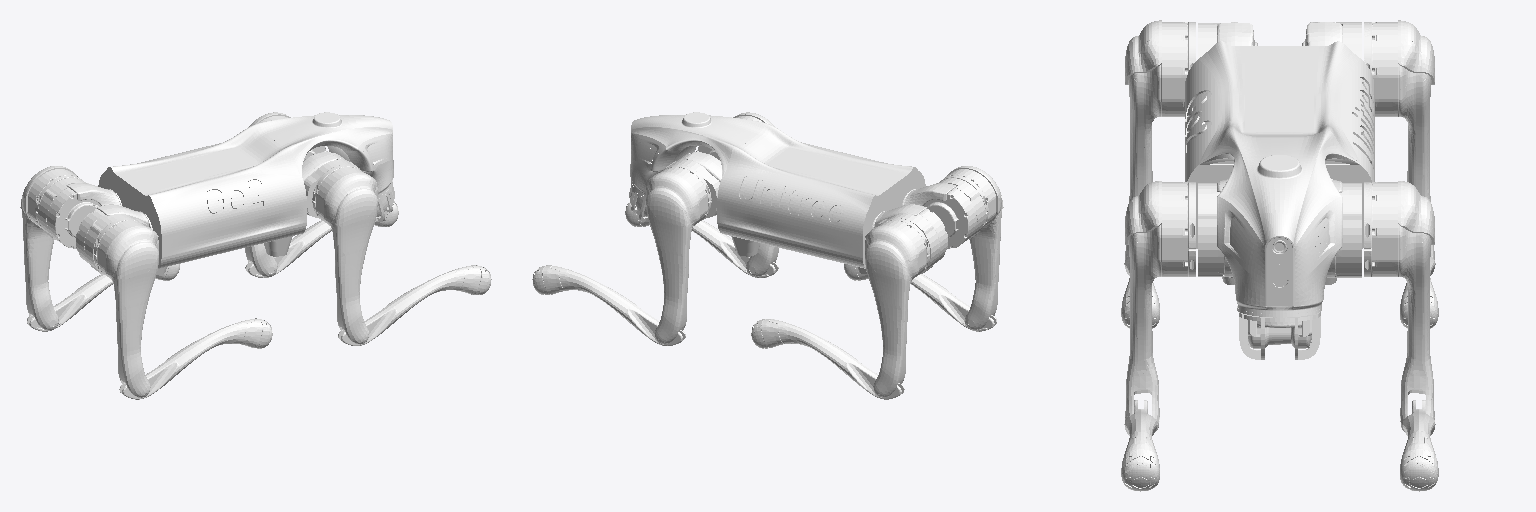
--- Facts derived from the render (not from the file) ---
3 views of the same robot in one strip: view 1: azimuth 30°, elevation 25°; view 2: azimuth 150°, elevation 25°; view 3: azimuth 270°, elevation 25° (orthographic).
Model go2_description with 42 links and 41 joints (12 revolute, 29 fixed), rooted at base, posed joints at zero except 4 at the middle of their limits (FL_calf_joint = -1.78, FR_calf_joint = -1.78, RL_calf_joint = -1.78, RR_calf_joint = -1.78).
Visible links, largest first — view 1: base, FR_thigh, RR_thigh, RL_thigh, RL_hip, RR_calf, FR_calf, RR_hip, RL_calf, FL_calf, FR_hip, FL_thigh; view 2: base, FL_thigh, RL_thigh, RR_thigh, RR_hip, RL_calf, FL_calf, RL_hip, RR_calf, FR_calf, FL_hip, FR_thigh; view 3: base, FR_thigh, FL_thigh, RL_thigh, RR_thigh, FL_hip, FR_hip, FR_calf, FL_calf, RL_hip, RR_hip, FL_foot (+1 smaller).
Link boxes in pixels (x1=…): base: x1=98, y1=112, x2=394, y2=273; FR_thigh: x1=312, y1=165, x2=377, y2=344; RR_thigh: x1=94, y1=218, x2=158, y2=397; RL_thigh: x1=20, y1=166, x2=82, y2=330; RL_hip: x1=38, y1=178, x2=121, y2=248; RR_calf: x1=119, y1=319, x2=272, y2=399; FR_calf: x1=338, y1=265, x2=491, y2=345; RR_hip: x1=76, y1=204, x2=152, y2=274; RL_calf: x1=27, y1=266, x2=168, y2=331; FL_calf: x1=245, y1=201, x2=398, y2=277; FR_hip: x1=302, y1=151, x2=359, y2=220; FL_thigh: x1=245, y1=112, x2=290, y2=277; base: x1=629, y1=112, x2=925, y2=273; FL_thigh: x1=646, y1=165, x2=711, y2=344; RL_thigh: x1=865, y1=218, x2=929, y2=397; RR_thigh: x1=940, y1=166, x2=1003, y2=330; RR_hip: x1=902, y1=178, x2=985, y2=248; RL_calf: x1=751, y1=319, x2=904, y2=399; FL_calf: x1=532, y1=265, x2=685, y2=345; RL_hip: x1=871, y1=204, x2=947, y2=274; RR_calf: x1=855, y1=266, x2=996, y2=331; FR_calf: x1=636, y1=213, x2=778, y2=277; FL_hip: x1=664, y1=152, x2=721, y2=219; FR_thigh: x1=733, y1=112, x2=778, y2=277; base: x1=1185, y1=41, x2=1374, y2=359; FR_thigh: x1=1125, y1=181, x2=1195, y2=431; FL_thigh: x1=1364, y1=181, x2=1434, y2=431; RL_thigh: x1=1364, y1=20, x2=1434, y2=259; RR_thigh: x1=1125, y1=20, x2=1195, y2=259; FL_hip: x1=1327, y1=179, x2=1361, y2=277; FR_hip: x1=1198, y1=179, x2=1232, y2=277; FR_calf: x1=1121, y1=400, x2=1157, y2=488; FL_calf: x1=1402, y1=400, x2=1438, y2=488; RL_hip: x1=1302, y1=22, x2=1361, y2=58; RR_hip: x1=1198, y1=22, x2=1257, y2=58; FL_foot: x1=1400, y1=450, x2=1437, y2=491.
Size in the robot's own frame: 0.6662 by 0.324 by 0.3208 metres.
17 mesh visuals loaded from 7 distinct referenced files (7 binary STL).

URDF robot description (go2_description):
<?xml version="1.0" encoding="utf-8"?>
<!-- This URDF was automatically created by SolidWorks to URDF Exporter! Originally created by
Stephen Brawner ([email redacted]) 
     Commit Version: 1.6.0-4-g7f85cfe  Build Version: 1.6.7995.38578
     For more information, please see http://wiki.ros.org/sw_urdf_exporter -->
<robot
  name="go2_description">
  <link
    name="base">
    <inertial>
      <origin
        xyz="0.021112 0 -0.005366"
        rpy="0 0 0" />
      <mass
        value="6.921" />
      <inertia
        ixx="0.02448"
        ixy="0.00012166"
        ixz="0.0014849"
        iyy="0.098077"
        iyz="-3.12E-05"
        izz="0.107" />
    </inertial>
    <visual>
      <origin
        xyz="0 0 0"
        rpy="0 0 0" />
      <geometry>
        <mesh
          filename="package://go2/meshes/visual/base.STL" />
      </geometry>
      <material
        name="">
        <color
          rgba="1 1 1 1" />
      </material>
    </visual>
    <collision>
      <origin rpy="0 0 0" xyz="0 0 0" />
      <geometry>
        <box size="0.3762 0.0935 0.114" />
      </geometry>
    </collision>
  </link>
  <link
    name="Head_upper">
    <inertial>
      <origin
        xyz="0 0 0"
        rpy="0 0 0" />
      <mass
        value="0.001" />
      <inertia
        ixx="9.6e-06"
        ixy="0"
        ixz="0"
        iyy="9.6e-06"
        iyz="0"
        izz="9.6e-06" />
    </inertial>
    <collision>
      <origin
        xyz="0 0 0"
        rpy="0 0 0" />
      <geometry>
        <cylinder radius="0.05" length="0.09" />
      </geometry>
    </collision>
  </link>
  <joint
    name="Head_upper_joint"
    type="fixed" dont_collapse="true">
    <origin
      xyz="0.285 0 0.01"
      rpy="0 0 0" />
    <parent
      link="base" />
    <child
      link="Head_upper" />
    <axis
      xyz="0 0 0" />
  </joint>
  <link
    name="Head_lower">
    <inertial>
      <origin
        xyz="0 0 0"
        rpy="0 0 0" />
      <mass
        value="0.001" />
      <inertia
        ixx="9.6e-06"
        ixy="0"
        ixz="0"
        iyy="9.6e-06"
        iyz="0"
        izz="9.6e-06" />
    </inertial>
    <collision>
      <origin
        xyz="0 0 0"
        rpy="0 0 0" />
      <geometry>
        <sphere radius="0.047" />
      </geometry>
    </collision>
  </link>
  <joint
    name="Head_lower_joint"
    type="fixed" dont_collapse="true">
    <origin
      xyz="0.008 0 -0.07"
      rpy="0 0 0" />
    <parent
      link="Head_upper" />
    <child
      link="Head_lower" />
    <axis
      xyz="0 0 0" />
  </joint>
  <link
    name="FL_hip">
    <inertial>
      <origin
        xyz="-0.0054 0.00194 -0.000105"
        rpy="0 0 0" />
      <mass
        value="0.678" />
      <inertia
        ixx="0.00048"
        ixy="-3.01E-06"
        ixz="1.11E-06"
        iyy="0.000884"
        iyz="-1.42E-06"
        izz="0.000596" />
    </inertial>
    <visual>
      <origin
        xyz="0 0 0"
        rpy="0 0 0" />
      <geometry>
        <mesh
          filename="package://go2/meshes/visual/hip.STL" />
      </geometry>
      <material
        name="">
        <color
          rgba="1 1 1 1" />
      </material>
    </visual>
    <collision>
      <origin rpy="1.5707963267948966 0 0" xyz="0 0.08 0" />
      <geometry>
        <cylinder length="0.04" radius="0.046" />
      </geometry>
    </collision>
  </link>
  <joint
    name="FL_hip_joint"
    type="revolute">
    <origin
      xyz="0.1934 0.0465 0"
      rpy="0 0 0" />
    <parent
      link="base" />
    <child
      link="FL_hip" />
    <axis
      xyz="1 0 0" />
    <limit
      lower="-1.0472"
      upper="1.0472"
      effort="23.7"
      velocity="30.1" />
  </joint>
  <link name="FL_hip_rotor">
    <inertial>
      <origin rpy="0 0 0" xyz="0.0 0.0 0.0"/>
      <mass value="0.089"/>
      <inertia ixx="0.000111842" ixy="0.0" ixz="0.0" iyy="0.000059647" iyz="0.0" izz="0.000059647"/>
    </inertial>
  </link>
  <joint name="FL_hip_rotor_joint" type="fixed">
    <origin rpy="0 0 0" xyz="0.11215 0.04675 0"/>
    <parent link="base"/>
    <child link="FL_hip_rotor"/>
  </joint>
  <link
    name="FL_thigh">
    <inertial>
      <origin
        xyz="-0.00374 -0.0223 -0.0327"
        rpy="0 0 0" />
      <mass
        value="1.152" />
      <inertia
        ixx="0.00584"
        ixy="8.72E-05"
        ixz="-0.000289"
        iyy="0.0058"
        iyz="0.000808"
        izz="0.00103" />
    </inertial>
    <visual>
      <origin
        xyz="0 0 0"
        rpy="0 0 0" />
      <geometry>
        <mesh
          filename="package://go2/meshes/visual/thigh.STL" />
      </geometry>
      <material
        name="">
        <color
          rgba="1 1 1 1" />
      </material>
    </visual>
    <collision>
      <origin rpy="0 1.5707963267948966 0" xyz="0 0 -0.1065" />
      <geometry>
        <box size="0.213 0.0245 0.034" />
      </geometry>
    </collision>
  </link>
  <joint
    name="FL_thigh_joint"
    type="revolute">
    <origin
      xyz="0 0.0955 0"
      rpy="0 0 0" />
    <parent
      link="FL_hip" />
    <child
      link="FL_thigh" />
    <axis
      xyz="0 1 0" />
    <limit
      lower="-1.5708"
      upper="3.4907"
      effort="23.7"
      velocity="30.1" />
  </joint>
  <link name="FL_thigh_rotor">
    <inertial>
      <origin rpy="0 0 0" xyz="0.0 0.0 0.0"/>
      <mass value="0.089"/>
      <inertia ixx="0.000059647" ixy="0.0" ixz="0.0" iyy="0.000111842" iyz="0.0" izz="0.000059647"/>
    </inertial>
  </link>
  <joint name="FL_thigh_rotor_joint" type="fixed">
    <origin rpy="0 0 0" xyz="0 -0.00015 0"/>
    <parent link="FL_hip"/>
    <child link="FL_thigh_rotor"/>
  </joint>
  <link
    name="FL_calf">
    <inertial>
      <origin
        xyz="0.00548 -0.000975 -0.115"
        rpy="0 0 0" />
      <mass
        value="0.154" />
      <inertia
        ixx="0.00108"
        ixy="3.4E-07"
        ixz="1.72E-05"
        iyy="0.0011"
        iyz="8.28E-06"
        izz="3.29E-05" />
    </inertial>
    <visual>
      <origin
        xyz="0 0 0"
        rpy="0 0 0" />
      <geometry>
        <mesh
          filename="package://go2/meshes/visual/calf.STL" />
      </geometry>
      <material
        name="">
        <color
          rgba="1 1 1 1" />
      </material>
    </visual>
    <collision>
      <origin rpy="0 -0.21 0" xyz="0.008 0 -0.06" />
      <geometry>
        <cylinder length="0.12" radius="0.012" />
      </geometry>
    </collision>
  </link>
  <joint
    name="FL_calf_joint"
    type="revolute">
    <origin
      xyz="0 0 -0.213"
      rpy="0 0 0" />
    <parent
      link="FL_thigh" />
    <child
      link="FL_calf" />
    <axis
      xyz="0 1 0" />
    <limit
      lower="-2.7227"
      upper="-0.83776"
      effort="45.43"
      velocity="15.70" />
  </joint>
  <link
    name="FL_calflower">
    <collision>
      <origin rpy="0 0 0" xyz="0 0 0" />
      <geometry>
        <cylinder length="0.065" radius="0.011" />
      </geometry>
    </collision>
  </link>
  <joint
    name="FL_calflower_joint"
    type="fixed">
    <origin
      xyz="0.020 0 -0.148"
      rpy="0 0.05 0" />
    <parent
      link="FL_calf" />
    <child
      link="FL_calflower" />
    <axis
      xyz="0 0 0" />
  </joint>
  <link
    name="FL_calflower1">
    <collision>
      <origin rpy="0 0 0" xyz="0 0 0" />
      <geometry>
        <cylinder length="0.03" radius="0.0155" />
      </geometry>
    </collision>
  </link>
  <joint
    name="FL_calflower1_joint"
    type="fixed">
    <origin
      xyz="-0.01 0 -0.04"
      rpy="0 0.48 0" />
    <parent
      link="FL_calflower" />
    <child
      link="FL_calflower1" />
    <axis
      xyz="0 0 0" />
  </joint>
  <link name="FL_calf_rotor">
    <inertial>
      <origin rpy="0 0 0" xyz="0.0 0.0 0.0"/>
      <mass value="0.089"/>
      <inertia ixx="0.000059647" ixy="0.0" ixz="0.0" iyy="0.000111842" iyz="0.0" izz="0.000059647"/>
    </inertial>
  </link>
  <joint name="FL_calf_rotor_joint" type="fixed">
    <origin rpy="0 0 0" xyz="0 -0.03235 0"/>
    <parent link="FL_thigh"/>
    <child link="FL_calf_rotor"/>
  </joint>
  <link
    name="FL_foot">
    <inertial>
      <origin
        xyz="0 0 0"
        rpy="0 0 0" />
      <mass
        value="0.04" />
      <inertia
        ixx="9.6e-06"
        ixy="0"
        ixz="0"
        iyy="9.6e-06"
        iyz="0"
        izz="9.6e-06" />
    </inertial>
    <visual>
      <origin
        xyz="0 0 0"
        rpy="0 0 0" />
      <geometry>
        <mesh
          filename="package://go2/meshes/visual/foot.STL" />
      </geometry>
      <material
        name="">
        <color
          rgba="1 1 1 1" />
      </material>
    </visual>
    <collision>
      <origin rpy="0 0 0" xyz="-0.002 0 0" />
      <geometry>
        <sphere radius="0.022" />
      </geometry>
    </collision>
  </link>
  <joint
    name="FL_foot_joint"
    type="fixed" dont_collapse="true">
    <origin
      xyz="0 0 -0.213"
      rpy="0 0 0" />
    <parent
      link="FL_calf" />
    <child
      link="FL_foot" />
    <axis
      xyz="0 0 0" />
  </joint>
  <link
    name="FR_hip">
    <inertial>
      <origin
        xyz="-0.0054 -0.00194 -0.000105"
        rpy="0 0 0" />
      <mass
        value="0.678" />
      <inertia
        ixx="0.00048"
        ixy="3.01E-06"
        ixz="1.11E-06"
        iyy="0.000884"
        iyz="1.42E-06"
        izz="0.000596" />
    </inertial>
    <visual>
      <origin
        xyz="0 0 0"
        rpy="3.1415 0 0" />
      <geometry>
        <mesh
          filename="package://go2/meshes/visual/hip.STL" />
      </geometry>
      <material
        name="">
        <color
          rgba="1 1 1 1" />
      </material>
    </visual>
    <collision>
      <origin rpy="1.5707963267948966 0 0" xyz="0 -0.08 0" />
      <geometry>
        <cylinder length="0.04" radius="0.046" />
      </geometry>
    </collision>
  </link>
  <joint
    name="FR_hip_joint"
    type="revolute">
    <origin
      xyz="0.1934 -0.0465 0"
      rpy="0 0 0" />
    <parent
      link="base" />
    <child
      link="FR_hip" />
    <axis
      xyz="1 0 0" />
    <limit
      lower="-1.0472"
      upper="1.0472"
      effort="23.7"
      velocity="30.1" />
  </joint>
  <link name="FR_hip_rotor">
    <inertial>
      <origin rpy="0 0 0" xyz="0.0 0.0 0.0"/>
      <mass value="0.089"/>
      <inertia ixx="0.000111842" ixy="0.0" ixz="0.0" iyy="0.000059647" iyz="0.0" izz="0.000059647"/>
    </inertial>
  </link>
  <joint name="FR_hip_rotor_joint" type="fixed">
    <origin rpy="0 0 0" xyz="0.11215 -0.04675 0"/>
    <parent link="base"/>
    <child link="FR_hip_rotor"/>
  </joint>
  <link
    name="FR_thigh">
    <inertial>
      <origin
        xyz="-0.00374 0.0223 -0.0327"
        rpy="0 0 0" />
      <mass
        value="1.152" />
      <inertia
        ixx="0.00584"
        ixy="-8.72E-05"
        ixz="-0.000289"
        iyy="0.0058"
        iyz="-0.000808"
        izz="0.00103" />
    </inertial>
    <visual>
      <origin
        xyz="0 0 0"
        rpy="0 0 0" />
      <geometry>
        <mesh
          filename="package://go2/meshes/visual/thigh_mirror.STL" />
      </geometry>
      <material
        name="">
        <color
          rgba="1 1 1 1" />
      </material>
    </visual>
    <collision>
      <origin rpy="0 1.5707963267948966 0" xyz="0 0 -0.1065" />
      <geometry>
        <box size="0.213 0.0245 0.034" />
      </geometry>
    </collision>
  </link>
  <joint
    name="FR_thigh_joint"
    type="revolute">
    <origin
      xyz="0 -0.0955 0"
      rpy="0 0 0" />
    <parent
      link="FR_hip" />
    <child
      link="FR_thigh" />
    <axis
      xyz="0 1 0" />
    <limit
      lower="-1.5708"
      upper="3.4907"
      effort="23.7"
      velocity="30.1" />
  </joint>
  <link name="FR_thigh_rotor">
    <inertial>
      <origin rpy="0 0 0" xyz="0.0 0.0 0.0"/>
      <mass value="0.089"/>
      <inertia ixx="0.000059647" ixy="0.0" ixz="0.0" iyy="0.000111842" iyz="0.0" izz="0.000059647"/>
    </inertial>
  </link>
  <joint name="FR_thigh_rotor_joint" type="fixed">
    <origin rpy="0 0 0" xyz="0 0.00015 0"/>
    <parent link="FR_hip"/>
    <child link="FR_thigh_rotor"/>
  </joint>
  <link
    name="FR_calf">
    <inertial>
      <origin
        xyz="0.00548 0.000975 -0.115"
        rpy="0 0 0" />
      <mass
        value="0.154" />
      <inertia
        ixx="0.00108"
        ixy="-3.4E-07"
        ixz="1.72E-05"
        iyy="0.0011"
        iyz="-8.28E-06"
        izz="3.29E-05" />
    </inertial>
    <visual>
      <origin
        xyz="0 0 0"
        rpy="0 0 0" />
      <geometry>
        <mesh
          filename="package://go2/meshes/visual/calf_mirror.STL" />
      </geometry>
      <material
        name="">
        <color
          rgba="1 1 1 1" />
      </material>
    </visual>
    <collision>
      <origin rpy="0 -0.2 0" xyz="0.01 0 -0.06" />
      <geometry>
        <cylinder length="0.12" radius="0.013" />
      </geometry>
    </collision>
  </link>
  <joint
    name="FR_calf_joint"
    type="revolute">
    <origin
      xyz="0 0 -0.213"
      rpy="0 0 0" />
    <parent
      link="FR_thigh" />
    <child
      link="FR_calf" />
    <axis
      xyz="0 1 0" />
    <limit
      lower="-2.7227"
      upper="-0.83776"
      effort="45.43"
      velocity="15.70" />
  </joint>
  <link
    name="FR_calflower">
    <collision>
      <origin rpy="0 0 0" xyz="0 0 0" />
      <geometry>
        <cylinder length="0.065" radius="0.011" />
      </geometry>
    </collision>
  </link>
  <joint
    name="FR_calflower_joint"
    type="fixed">
    <origin
      xyz="0.020 0 -0.148"
      rpy="0 0.05 0" />
    <parent
      link="FR_calf" />
    <child
      link="FR_calflower" />
    <axis
      xyz="0 0 0" />
  </joint>
  <link
    name="FR_calflower1">
    <collision>
      <origin rpy="0 0 0" xyz="0 0 0" />
      <geometry>
        <cylinder length="0.03" radius="0.0155" />
      </geometry>
    </collision>
  </link>
  <joint
    name="FR_calflower1_joint"
    type="fixed">
    <origin
      xyz="-0.01 0 -0.04"
      rpy="0 0.48 0" />
    <parent
      link="FR_calflower" />
    <child
      link="FR_calflower1" />
    <axis
      xyz="0 0 0" />
  </joint>
  <link name="FR_calf_rotor">
    <inertial>
      <origin rpy="0 0 0" xyz="0.0 0.0 0.0"/>
      <mass value="0.089"/>
      <inertia ixx="0.000059647" ixy="0.0" ixz="0.0" iyy="0.000111842" iyz="0.0" izz="0.000059647"/>
    </inertial>
  </link>
  <joint name="FR_calf_rotor_joint" type="fixed">
    <origin rpy="0 0 0" xyz="0 0.03235 0"/>
    <parent link="FR_thigh"/>
    <child link="FR_calf_rotor"/>
  </joint>
  <link
    name="FR_foot">
    <inertial>
      <origin
        xyz="0 0 0"
        rpy="0 0 0" />
      <mass
        value="0.04" />
      <inertia
        ixx="9.6e-06"
        ixy="0"
        ixz="0"
        iyy="9.6e-06"
        iyz="0"
        izz="9.6e-06" />
    </inertial>
    <visual>
      <origin
        xyz="0 0 0"
        rpy="0 0 0" />
      <geometry>
        <mesh
          filename="package://go2/meshes/visual/foot.STL" />
      </geometry>
      <material
        name="">
        <color
          rgba="1 1 1 1" />
      </material>
    </visual>
    <collision>
      <origin rpy="0 0 0" xyz="-0.002 0 0" />
      <geometry>
        <sphere radius="0.022" />
      </geometry>
    </collision>
  </link>
  <joint
    name="FR_foot_joint"
    type="fixed" dont_collapse="true">
    <origin
      xyz="0 0 -0.213"
      rpy="0 0 0" />
    <parent
      link="FR_calf" />
    <child
      link="FR_foot" />
    <axis
      xyz="0 0 0" />
  </joint>
  <link
    name="RL_hip">
    <inertial>
      <origin
        xyz="0.0054 0.00194 -0.000105"
        rpy="0 0 0" />
      <mass
        value="0.678" />
      <inertia
        ixx="0.00048"
        ixy="3.01E-06"
        ixz="-1.11E-06"
        iyy="0.000884"
        iyz="-1.42E-06"
        izz="0.000596" />
    </inertial>
    <visual>
      <origin
        xyz="0 0 0"
        rpy="0 3.1415 0" />
      <geometry>
        <mesh
          filename="package://go2/meshes/visual/hip.STL" />
      </geometry>
      <material
        name="">
        <color
          rgba="1 1 1 1" />
      </material>
    </visual>
    <collision>
      <origin rpy="1.5707963267948966 0 0" xyz="0 0.08 0" />
      <geometry>
        <cylinder length="0.04" radius="0.046" />
      </geometry>
    </collision>
  </link>
  <joint
    name="RL_hip_joint"
    type="revolute">
    <origin
      xyz="-0.1934 0.0465 0"
      rpy="0 0 0" />
    <parent
      link="base" />
    <child
      link="RL_hip" />
    <axis
      xyz="1 0 0" />
    <limit
      lower="-1.0472"
      upper="1.0472"
      effort="23.7"
      velocity="30.1" />
  </joint>
  <link name="RL_hip_rotor">
    <inertial>
      <origin rpy="0 0 0" xyz="0.0 0.0 0.0"/>
      <mass value="0.089"/>
      <inertia ixx="0.000111842" ixy="0.0" ixz="0.0" iyy="0.000059647" iyz="0.0" izz="0.000059647"/>
    </inertial>
  </link>
  <joint name="RL_hip_rotor_joint" type="fixed">
    <origin rpy="0 0 0" xyz="-0.11215 0.04675 0"/>
    <parent link="base"/>
    <child link="RL_hip_rotor"/>
  </joint>
  <link
    name="RL_thigh">
    <inertial>
      <origin
        xyz="-0.00374 -0.0223 -0.0327"
        rpy="0 0 0" />
      <mass
        value="1.152" />
      <inertia
        ixx="0.00584"
        ixy="8.72E-05"
        ixz="-0.000289"
        iyy="0.0058"
        iyz="0.000808"
        izz="0.00103" />
    </inertial>
    <visual>
      <origin
        xyz="0 0 0"
        rpy="0 0 0" />
      <geometry>
        <mesh
          filename="package://go2/meshes/visual/thigh.STL" />
      </geometry>
      <material
        name="">
        <color
          rgba="1 1 1 1" />
      </material>
    </visual>
    <collision>
      <origin rpy="0 1.5707963267948966 0" xyz="0 0 -0.1065" />
      <geometry>
        <box size="0.213 0.0245 0.034" />
      </geometry>
    </collision>
  </link>
  <joint
    name="RL_thigh_joint"
    type="revolute">
    <origin
      xyz="0 0.0955 0"
      rpy="0 0 0" />
    <parent
      link="RL_hip" />
    <child
      link="RL_thigh" />
    <axis
      xyz="0 1 0" />
    <limit
      lower="-0.5236"
      upper="4.5379"
      effort="23.7"
      velocity="30.1" />
  </joint>
  <link name="RL_thigh_rotor">
    <inertial>
      <origin rpy="0 0 0" xyz="0.0 0.0 0.0"/>
      <mass value="0.089"/>
      <inertia ixx="0.000059647" ixy="0.0" ixz="0.0" iyy="0.000111842" iyz="0.0" izz="0.000059647"/>
    </inertial>
  </link>
  <joint name="RL_thigh_rotor_joint" type="fixed">
    <origin rpy="0 0 0" xyz="0 -0.00015 0"/>
    <parent link="RL_hip"/>
    <child link="RL_thigh_rotor"/>
  </joint>
  <link
    name="RL_calf">
    <inertial>
      <origin
        xyz="0.00548 -0.000975 -0.115"
        rpy="0 0 0" />
      <mass
        value="0.154" />
      <inertia
        ixx="0.00108"
        ixy="3.4E-07"
        ixz="1.72E-05"
        iyy="0.0011"
        iyz="8.28E-06"
        izz="3.29E-05" />
    </inertial>
    <visual>
      <origin
        xyz="0 0 0"
        rpy="0 0 0" />
      <geometry>
        <mesh
          filename="package://go2/meshes/visual/calf.STL" />
      </geometry>
      <material
        name="">
        <color
          rgba="1 1 1 1" />
      </material>
    </visual>
    <collision>
      <origin rpy="0 -0.2 0" xyz="0.01 0 -0.06" />
      <geometry>
        <cylinder length="0.12" radius="0.013" />
      </geometry>
    </collision>
  </link>
  <joint
    name="RL_calf_joint"
    type="revolute">
    <origin
      xyz="0 0 -0.213"
      rpy="0 0 0" />
    <parent
      link="RL_thigh" />
    <child
      link="RL_calf" />
    <axis
      xyz="0 1 0" />
    <limit
      lower="-2.7227"
      upper="-0.83776"
      effort="45.43"
      velocity="15.70" />
  </joint>
  <link
    name="RL_calflower">
    <collision>
      <origin rpy="0 0 0" xyz="0 0 0" />
      <geometry>
        <cylinder length="0.065" radius="0.011" />
      </geometry>
    </collision>
  </link>
  <joint
    name="RL_calflower_joint"
    type="fixed">
    <origin
      xyz="0.020 0 -0.148"
      rpy="0 0.05 0" />
    <parent
      link="RL_calf" />
    <child
      link="RL_calflower" />
    <axis
      xyz="0 0 0" />
  </joint>
  <link
    name="RL_calflower1">
    <collision>
      <origin rpy="0 0 0" xyz="0 0 0" />
      <geometry>
        <cylinder length="0.03" radius="0.0155" />
      </geometry>
    </collision>
  </link>
  <joint
    name="RL_calflower1_joint"
    type="fixed">
    <origin
      xyz="-0.01 0 -0.04"
      rpy="0 0.48 0" />
    <parent
      link="RL_calflower" />
    <child
      link="RL_calflower1" />
    <axis
      xyz="0 0 0" />
  </joint>
  <link name="RL_calf_rotor">
    <inertial>
      <origin rpy="0 0 0" xyz="0.0 0.0 0.0"/>
      <mass value="0.089"/>
      <inertia ixx="0.000059647" ixy="0.0" ixz="0.0" iyy="0.000111842" iyz="0.0" izz="0.000059647"/>
    </inertial>
  </link>
  <joint name="RL_calf_rotor_joint" type="fixed">
    <origin rpy="0 0 0" xyz="0 -0.03235 0"/>
    <parent link="RL_thigh"/>
    <child link="RL_calf_rotor"/>
  </joint>
  <link
    name="RL_foot">
    <inertial>
      <origin
        xyz="0 0 0"
        rpy="0 0 0" />
      <mass
        value="0.04" />
      <inertia
        ixx="9.6e-06"
        ixy="0"
        ixz="0"
        iyy="9.6e-06"
        iyz="0"
        izz="9.6e-06" />
    </inertial>
    <visual>
      <origin
        xyz="0 0 0"
        rpy="0 0 0" />
      <geometry>
        <mesh
          filename="package://go2/meshes/visual/foot.STL" />
      </geometry>
      <material
        name="">
        <color
          rgba="1 1 1 1" />
      </material>
    </visual>
    <collision>
      <origin rpy="0 0 0" xyz="-0.002 0 0" />
      <geometry>
        <sphere radius="0.022" />
      </geometry>
    </collision>
  </link>
  <joint
    name="RL_foot_joint"
    type="fixed" dont_collapse="true">
    <origin
      xyz="0 0 -0.213"
      rpy="0 0 0" />
    <parent
      link="RL_calf" />
    <child
      link="RL_foot" />
    <axis
      xyz="0 0 0" />
  </joint>
  <link
    name="RR_hip">
    <inertial>
      <origin
        xyz="0.0054 -0.00194 -0.000105"
        rpy="0 0 0" />
      <mass
        value="0.678" />
      <inertia
        ixx="0.00048"
        ixy="-3.01E-06"
        ixz="-1.11E-06"
        iyy="0.000884"
        iyz="1.42E-06"
        izz="0.000596" />
    </inertial>
    <visual>
      <origin
        xyz="0 0 0"
        rpy="3.1415 3.1415 0" />
      <geometry>
        <mesh
          filename="package://go2/meshes/visual/hip.STL" />
      </geometry>
      <material
        name="">
        <color
          rgba="1 1 1 1" />
      </material>
    </visual>
    <collision>
      <origin rpy="1.5707963267948966 0 0" xyz="0 -0.08 0" />
      <geometry>
        <cylinder length="0.04" radius="0.046" />
      </geometry>
    </collision>
  </link>
  <joint
    name="RR_hip_joint"
    type="revolute">
    <origin
      xyz="-0.1934 -0.0465 0"
      rpy="0 0 0" />
    <parent
      link="base" />
    <child
      link="RR_hip" />
    <axis
      xyz="1 0 0" />
    <limit
      lower="-1.0472"
      upper="1.0472"
      effort="23.7"
      velocity="30.1" />
  </joint>
  <link name="RR_hip_rotor">
    <inertial>
      <origin rpy="0 0 0" xyz="0.0 0.0 0.0"/>
      <mass value="0.089"/>
      <inertia ixx="0.000111842" ixy="0.0" ixz="0.0" iyy="0.000059647" iyz="0.0" izz="0.000059647"/>
    </inertial>
  </link>
  <joint name="RR_hip_rotor_joint" type="fixed">
    <origin rpy="0 0 0" xyz="-0.11215 -0.04675 0"/>
    <parent link="base"/>
    <child link="RR_hip_rotor"/>
  </joint>
  <link
    name="RR_thigh">
    <inertial>
      <origin
        xyz="-0.00374 0.0223 -0.0327"
        rpy="0 0 0" />
      <mass
        value="1.152" />
      <inertia
        ixx="0.00584"
        ixy="-8.72E-05"
        ixz="-0.000289"
        iyy="0.0058"
        iyz="-0.000808"
        izz="0.00103" />
    </inertial>
    <visual>
      <origin
        xyz="0 0 0"
        rpy="0 0 0" />
      <geometry>
        <mesh
          filename="package://go2/meshes/visual/thigh_mirror.STL" />
      </geometry>
      <material
        name="">
        <color
          rgba="1 1 1 1" />
      </material>
    </visual>
    <collision>
      <origin rpy="0 1.5707963267948966 0" xyz="0 0 -0.1065" />
      <geometry>
        <box size="0.213 0.0245 0.034" />
      </geometry>
    </collision>
  </link>
  <joint
    name="RR_thigh_joint"
    type="revolute">
    <origin
      xyz="0 -0.0955 0"
      rpy="0 0 0" />
    <parent
      link="RR_hip" />
    <child
      link="RR_thigh" />
    <axis
      xyz="0 1 0" />
    <limit
      lower="-0.5236"
      upper="4.5379"
      effort="23.7"
      velocity="30.1" />
  </joint>
  <link name="RR_thigh_rotor">
    <inertial>
      <origin rpy="0 0 0" xyz="0.0 0.0 0.0"/>
      <mass value="0.089"/>
      <inertia ixx="0.000059647" ixy="0.0" ixz="0.0" iyy="0.000111842" iyz="0.0" izz="0.000059647"/>
    </inertial>
  </link>
  <joint name="RR_thigh_rotor_joint" type="fixed">
    <origin rpy="0 0 0" xyz="0 0.00015 0"/>
    <parent link="RR_hip"/>
    <child link="RR_thigh_rotor"/>
  </joint>
  <link
    name="RR_calf">
    <inertial>
      <origin
        xyz="0.00548 0.000975 -0.115"
        rpy="0 0 0" />
      <mass
        value="0.154" />
      <inertia
        ixx="0.00108"
        ixy="-3.4E-07"
        ixz="1.72E-05"
        iyy="0.0011"
        iyz="-8.28E-06"
        izz="3.29E-05" />
    </inertial>
    <visual>
      <origin
        xyz="0 0 0"
        rpy="0 0 0" />
      <geometry>
        <mesh
          filename="package://go2/meshes/visual/calf_mirror.STL" />
      </geometry>
      <material
        name="">
        <color
          rgba="1 1 1 1" />
      </material>
    </visual>
    <collision>
      <origin rpy="0 -0.2 0" xyz="0.01 0 -0.06" />
      <geometry>
        <cylinder length="0.12" radius="0.013" />
      </geometry>
    </collision>
  </link>
  <joint
    name="RR_calf_joint"
    type="revolute">
    <origin
      xyz="0 0 -0.213"
      rpy="0 0 0" />
    <parent
      link="RR_thigh" />
    <child
      link="RR_calf" />
    <axis
      xyz="0 1 0" />
    <limit
      lower="-2.7227"
      upper="-0.83776"
      effort="45.43"
      velocity="15.70" />
  </joint>
  <link
    name="RR_calflower">
    <collision>
      <origin rpy="0 0 0" xyz="0 0 0" />
      <geometry>
        <cylinder length="0.065" radius="0.011" />
      </geometry>
    </collision>
  </link>
  <joint
    name="RR_calflower_joint"
    type="fixed">
    <origin
      xyz="0.020 0 -0.148"
      rpy="0 0.05 0" />
    <parent
      link="RR_calf" />
    <child
      link="RR_calflower" />
    <axis
      xyz="0 0 0" />
  </joint>
  <link
    name="RR_calflower1">
    <collision>
      <origin rpy="0 0 0" xyz="0 0 0" />
      <geometry>
        <cylinder length="0.03" radius="0.0155" />
      </geometry>
    </collision>
  </link>
  <joint
    name="RR_calflower1_joint"
    type="fixed">
    <origin
      xyz="-0.01 0 -0.04"
      rpy="0 0.48 0" />
    <parent
      link="RR_calflower" />
    <child
      link="RR_calflower1" />
    <axis
      xyz="0 0 0" />
  </joint>
  <link name="RR_calf_rotor">
    <inertial>
      <origin rpy="0 0 0" xyz="0.0 0.0 0.0"/>
      <mass value="0.089"/>
      <inertia ixx="0.000059647" ixy="0.0" ixz="0.0" iyy="0.000111842" iyz="0.0" izz="0.000059647"/>
    </inertial>
  </link>
  <joint name="RR_calf_rotor_joint" type="fixed">
    <origin rpy="0 0 0" xyz="0 0.03235 0"/>
    <parent link="RR_thigh"/>
    <child link="RR_calf_rotor"/>
  </joint>
  <link
    name="RR_foot">
    <inertial>
      <origin
        xyz="0 0 0"
        rpy="0 0 0" />
      <mass
        value="0.04" />
      <inertia
        ixx="9.6e-06"
        ixy="0"
        ixz="0"
        iyy="9.6e-06"
        iyz="0"
        izz="9.6e-06" />
    </inertial>
    <visual>
      <origin
        xyz="0 0 0"
        rpy="0 0 0" />
      <geometry>
        <mesh
          filename="package://go2/meshes/visual/foot.STL" />
      </geometry>
      <material
        name="">
        <color
          rgba="1 1 1 1" />
      </material>
    </visual>
    <collision>
      <origin rpy="0 0 0" xyz="-0.002 0 0" />
      <geometry>
        <sphere radius="0.022" />
      </geometry>
    </collision>
  </link>
  <joint
    name="RR_foot_joint"
    type="fixed" dont_collapse="true">
    <origin
      xyz="0 0 -0.213"
      rpy="0 0 0" />
    <parent
      link="RR_calf" />
    <child
      link="RR_foot" />
    <axis
      xyz="0 0 0" />
  </joint>
  <link
    name="imu">
    <inertial>
      <origin
        xyz="0 0 0"
        rpy="0 0 0" />
      <mass
        value="0" />
      <inertia
        ixx="0"
        ixy="0"
        ixz="0"
        iyy="0"
        iyz="0"
        izz="0" />
    </inertial>
  </link>
  <joint
    name="imu_joint"
    type="fixed">
    <origin
      xyz="-0.02557 0 0.04232"
      rpy="0 0 0" />
    <parent
      link="base" />
    <child
      link="imu" />
    <axis
      xyz="0 0 0" />
  </joint>
  <link
    name="radar">
    <inertial>
      <origin
        xyz="0 0 0"
        rpy="0 0 0" />
      <mass
        value="0" />
      <inertia
        ixx="0"
        ixy="0"
        ixz="0"
        iyy="0"
        iyz="0"
        izz="0" />
    </inertial>
  </link>
  <joint
    name="radar_joint"
    type="fixed">
    <origin
      xyz="0.28945 0 -0.046825"
      rpy="0 2.8782 0" />
    <parent
      link="base" />
    <child
      link="radar" />
    <axis
      xyz="0 0 0" />
  </joint>
  <joint 
    name="front_camera_joint" 
    type="fixed">
    <origin 
      rpy="0 0 0" 
      xyz="0.32715 -0.00003 0.04297"/>
      <parent 
        link="base"/>
      <child 
      link="front_camera"/>
  </joint>
  <link 
    name="front_camera">
  </link>
</robot>
